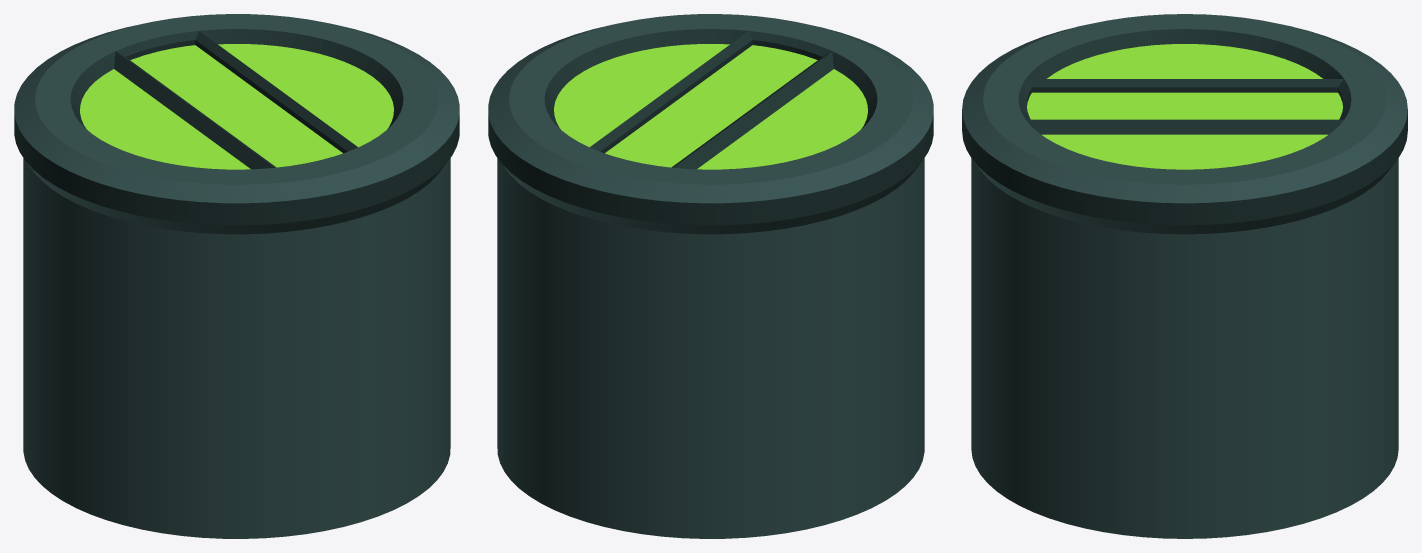
Rendered from SimonSays_Color_01.fbx.
3 views of the same model, side by side, from view 1: azimuth 30°, elevation 25°; view 2: azimuth 150°, elevation 25°; view 3: azimuth 270°, elevation 25° (orthographic).
Parts seen in each view (by area): view 1: SimonSays_Color_01; view 2: SimonSays_Color_01; view 3: SimonSays_Color_01.
Part boxes in pixels (x1,y1,x2,y2): SimonSays_Color_01: (14,14,459,538); SimonSays_Color_01: (488,14,933,538); SimonSays_Color_01: (962,14,1407,538).
Size of the model in its own units: 164 by 142 by 164.
